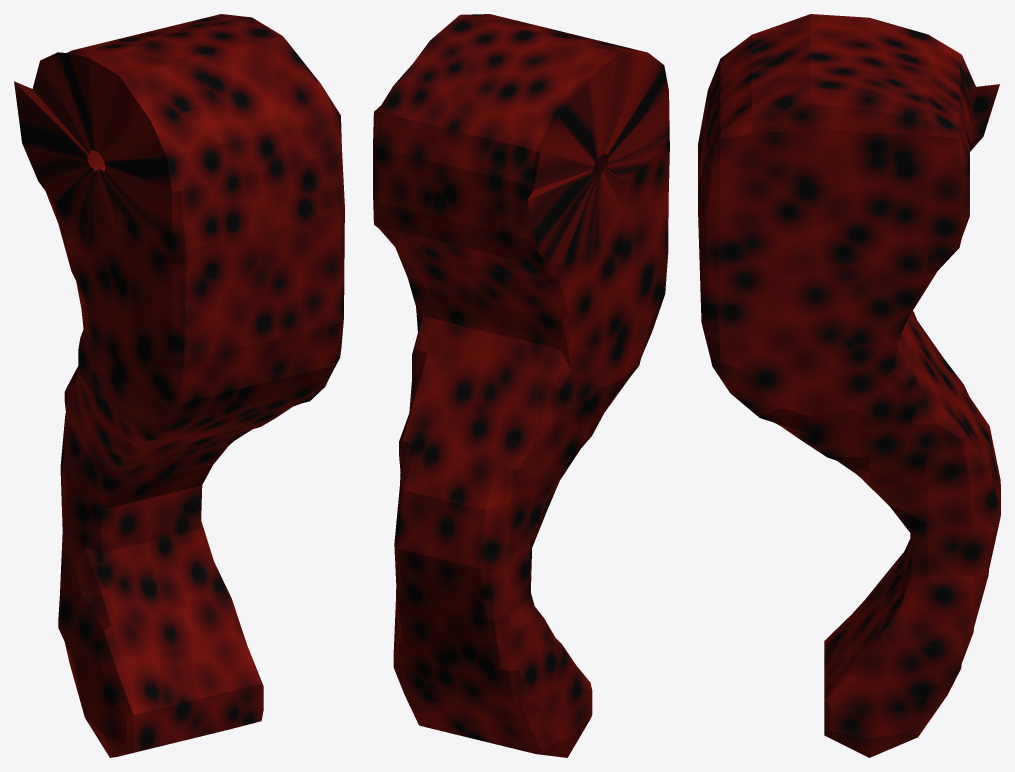
File: DemonLeg.fbx
3 renders of one model, left to right at view 1: azimuth 30°, elevation 25°; view 2: azimuth 150°, elevation 25°; view 3: azimuth 270°, elevation 25°, orthographic. The views are drawn at different scales.
Visible parts, largest first — view 1: Leg; view 2: Leg; view 3: Leg.
Boxes of the visible parts, x1,y1,x2,y2 form: Leg: (14, 14, 344, 757); Leg: (373, 14, 669, 757); Leg: (698, 14, 1000, 757).
Size of the model in its own units: 33.85 by 127 by 51.54.
Materials: 1 (1 with a texture image).
